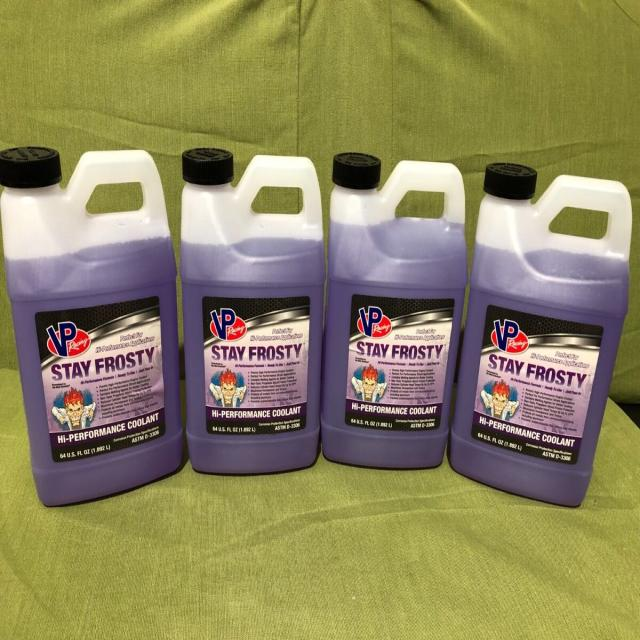coolant: (0, 143, 181, 513), (469, 161, 640, 508), (185, 146, 321, 474), (324, 142, 448, 475)
